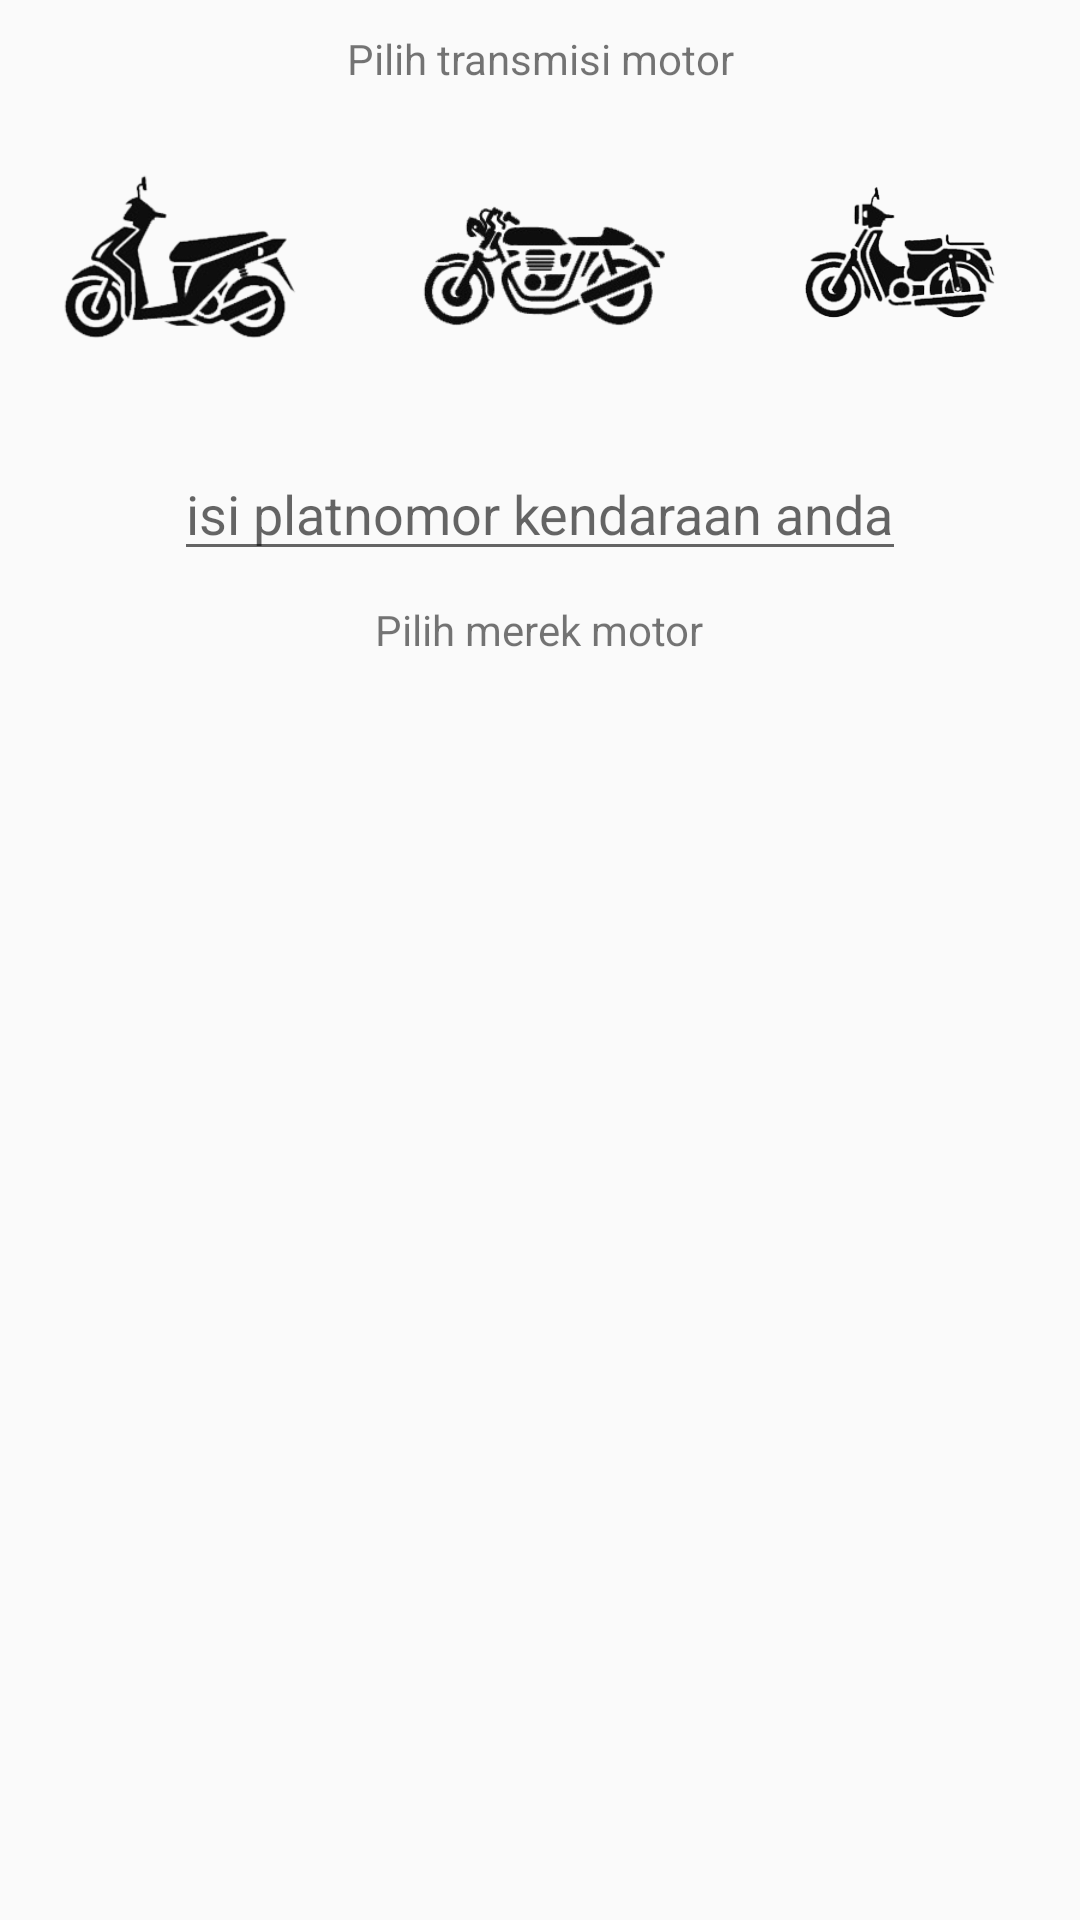

Screen size 1080×1920. Icon name, then its box in pixels as [x1, y1, x2, y2]:
motorcycle: [424, 207, 665, 325]
scooter: [64, 176, 295, 338]
